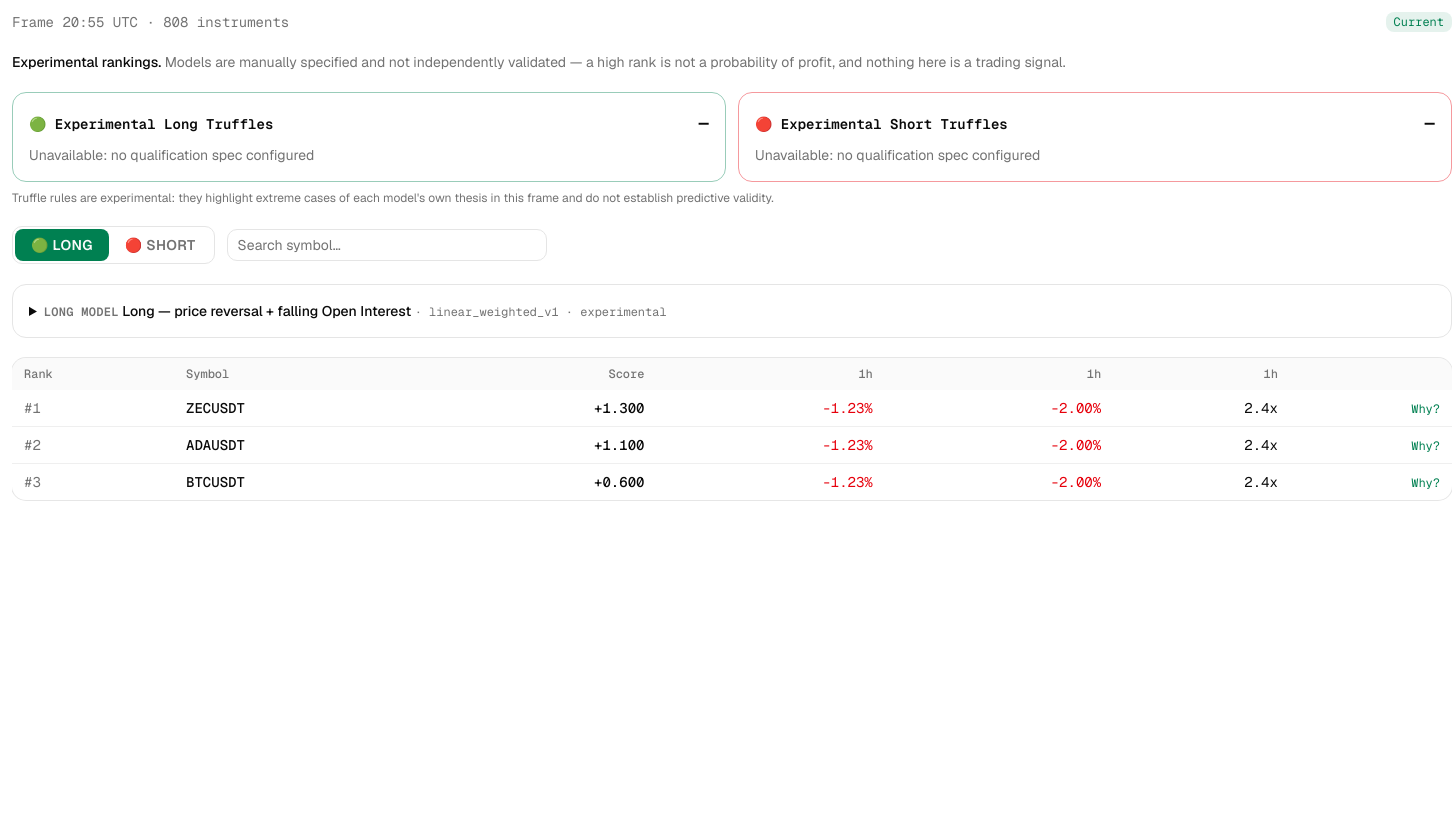
Test case: RankingBoard › explains the model and each score
This screenshot has width=1452, height=822.
Expected: the text "Long — price reversal + falling Open Interest" is shown, left=122, top=302, right=411, bottom=320
Expected: the text "· linear_weighted_v1 · experimental" is shown, left=415, top=304, right=667, bottom=320
Click the button "Why?" in the row of "ZECUSDT" at (1426, 409), box left=1411, top=401, right=1440, bottom=417
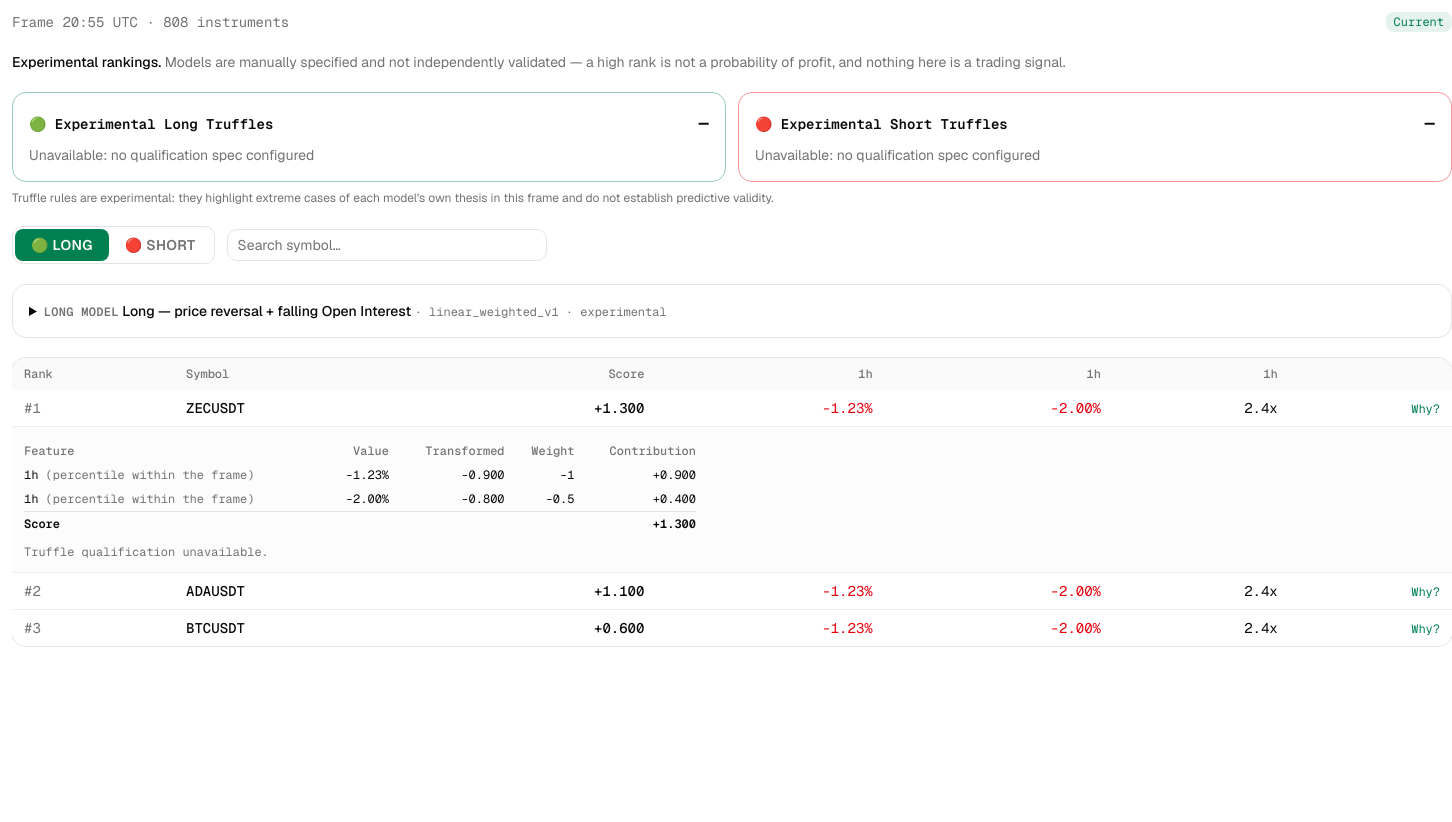
Now the text "+0.900" is shown, box left=586, top=463, right=696, bottom=487
Now the text "+0.400" is shown, box left=586, top=487, right=696, bottom=512
Now the text "+1.300" is shown once, box left=586, top=512, right=696, bottom=532
